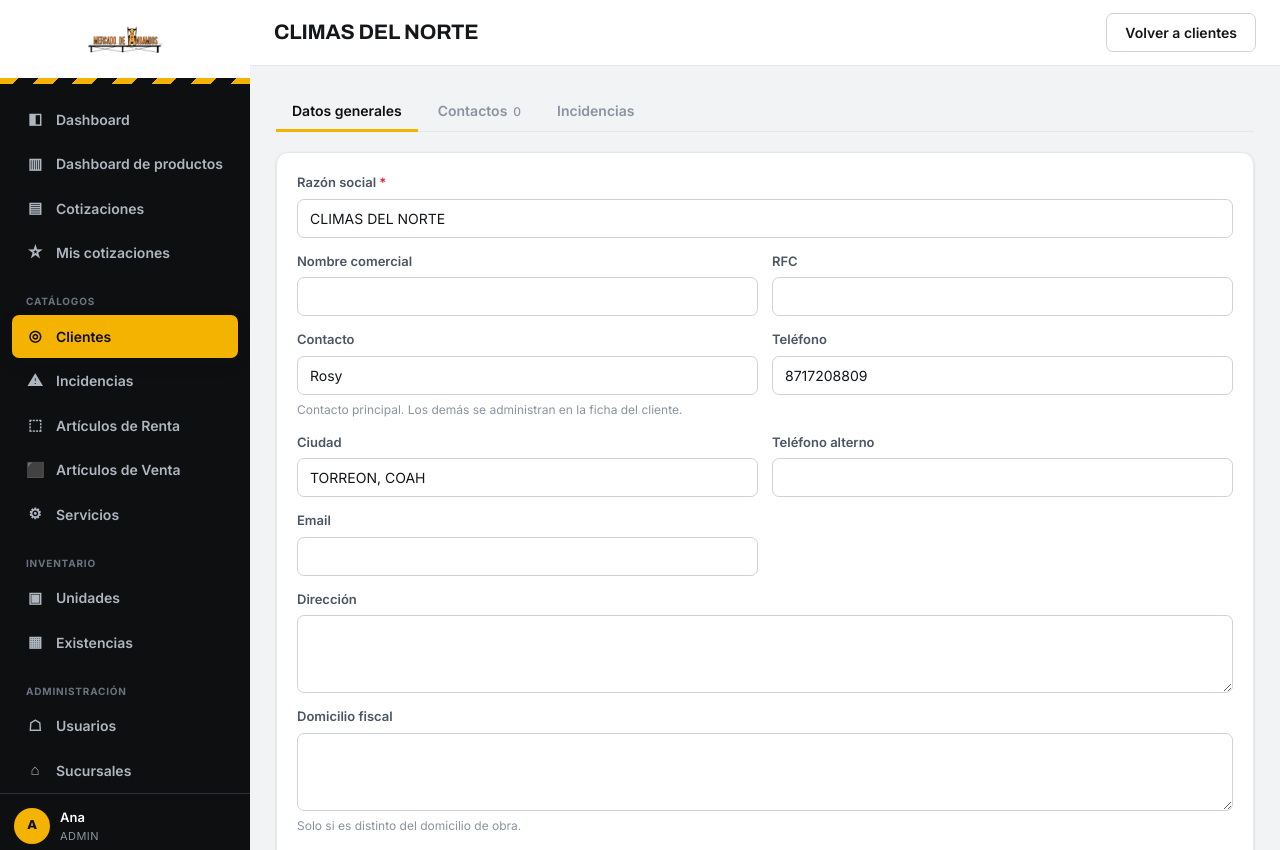
ClienteDetalle — contactos › un cliente sin contactos no es un error: lo dice y ofrece agregar
Click the button "Contactos0".
click(479, 112)  # box [422,92,537,132]
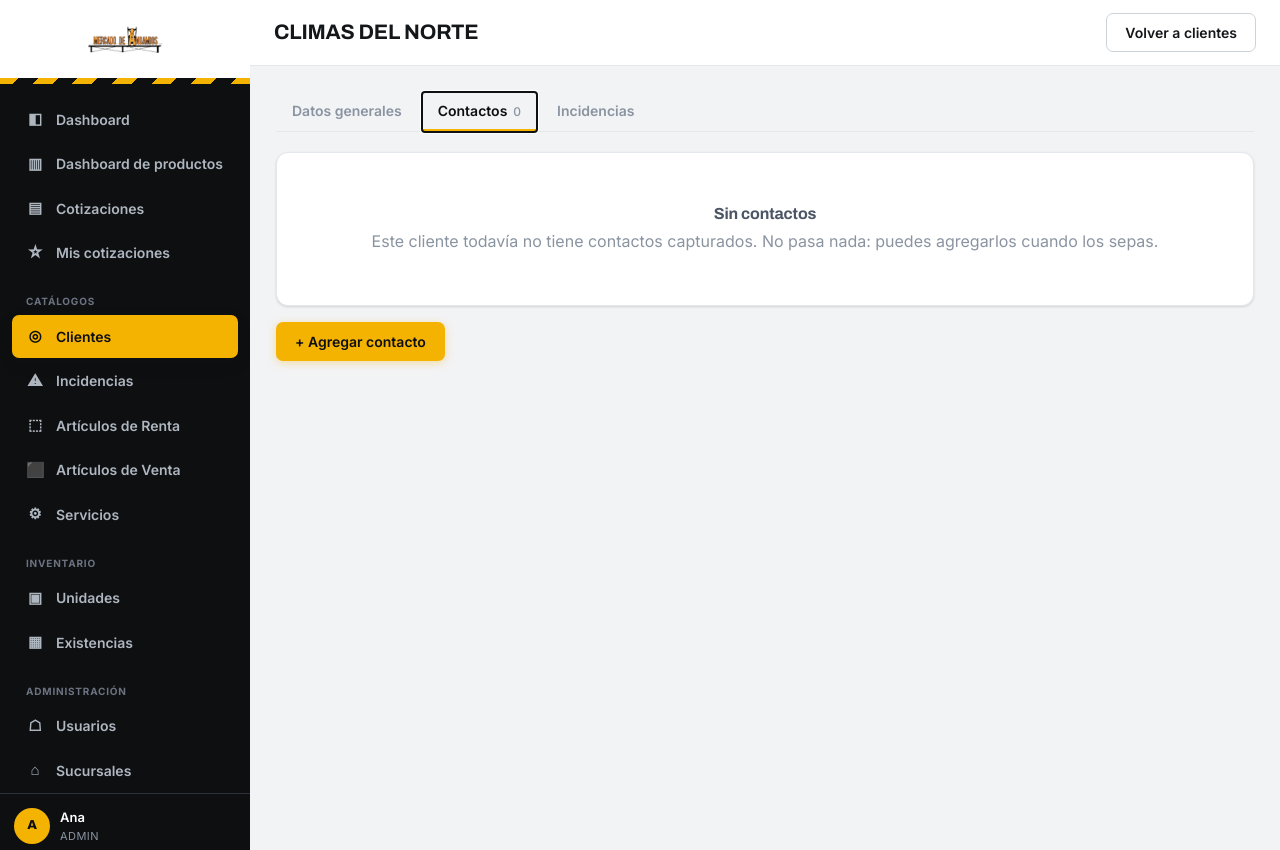
Expected: the heading "Sin contactos" is shown, [714,205,816,222]
Expected: the text "No pasa nada" is shown, [372,231,1158,251]
Expected: the button "+ Agregar contacto" is shown, [276,322,445,361]
